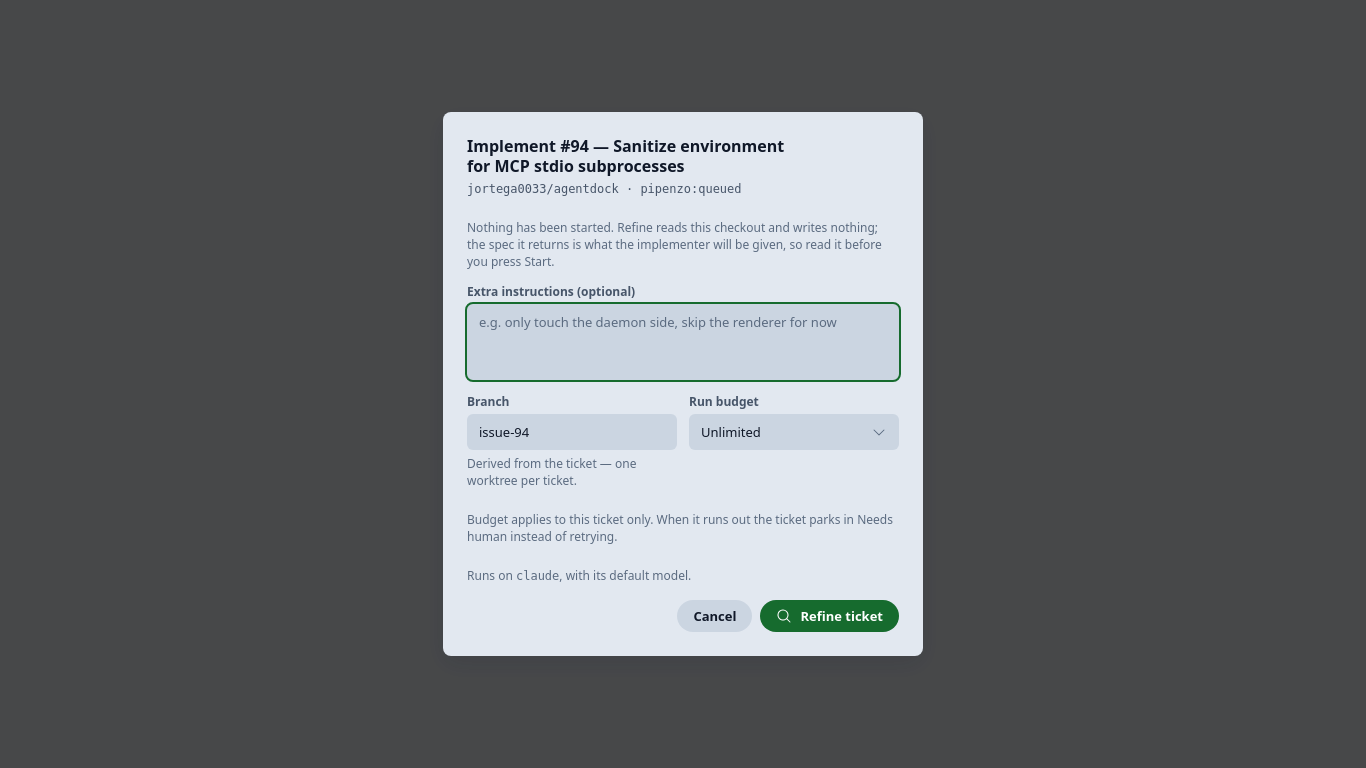
Test: ImplementDialog › renders the returned spec — summary, criteria, out of scope, estimate — before Start exists
Click the button "Refine ticket". click: (830, 616)
box: [760,600,899,632]
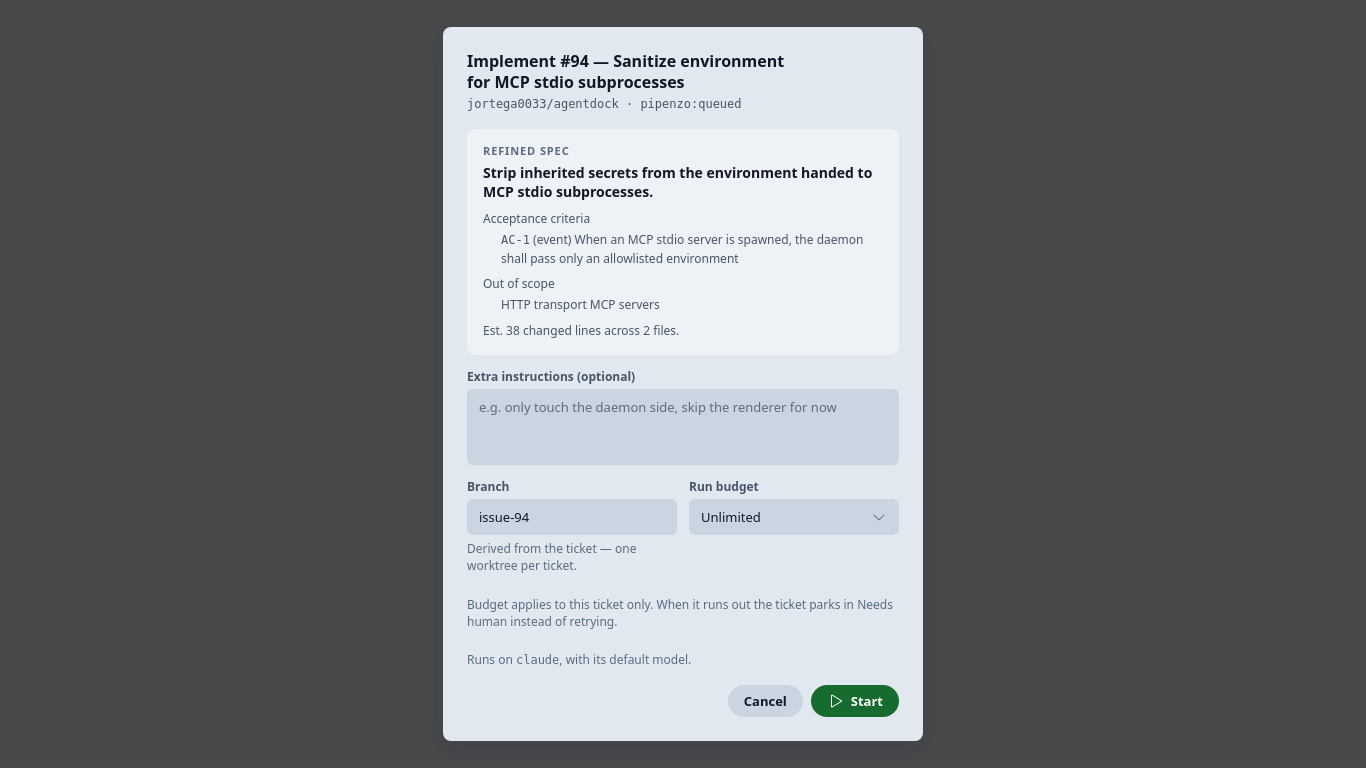
Now the button "Start" is shown, box [811,685,899,717]
Now the text "Strip inherited secrets" is shown, box [483,163,872,201]
Now the text "AC-1" is shown, box [501,233,530,247]
